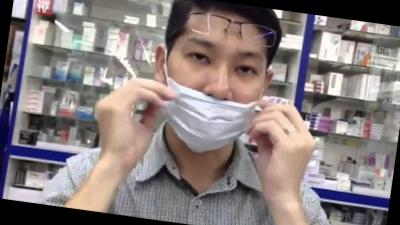mask_weared_incorrect: (155, 32, 273, 162)
